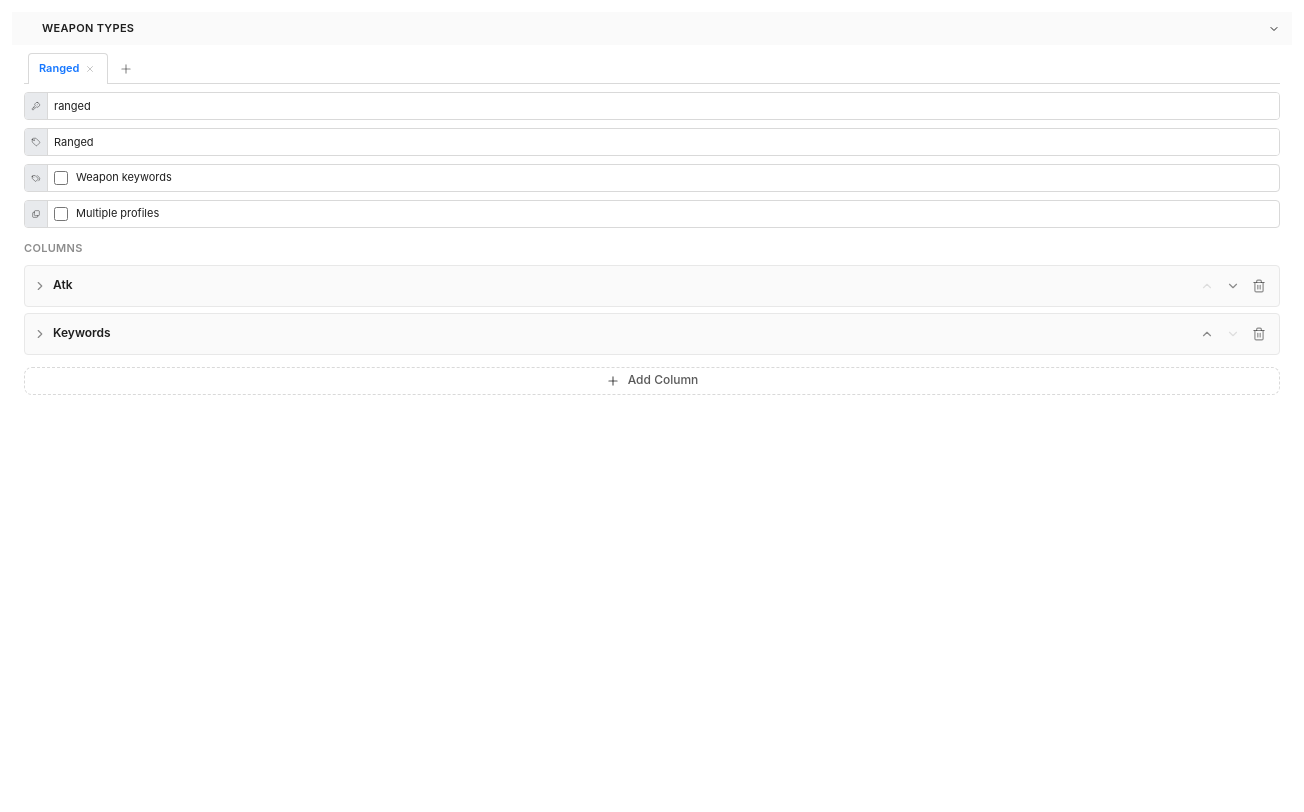
Test case: WeaponsSchemaEditor › shows displayLabel and visual inputs only when display is row
The width and height of the screenshot is (1304, 812).
Click the button "Keywords" at (82, 333), box x1=33 y1=322 x2=1189 y2=345
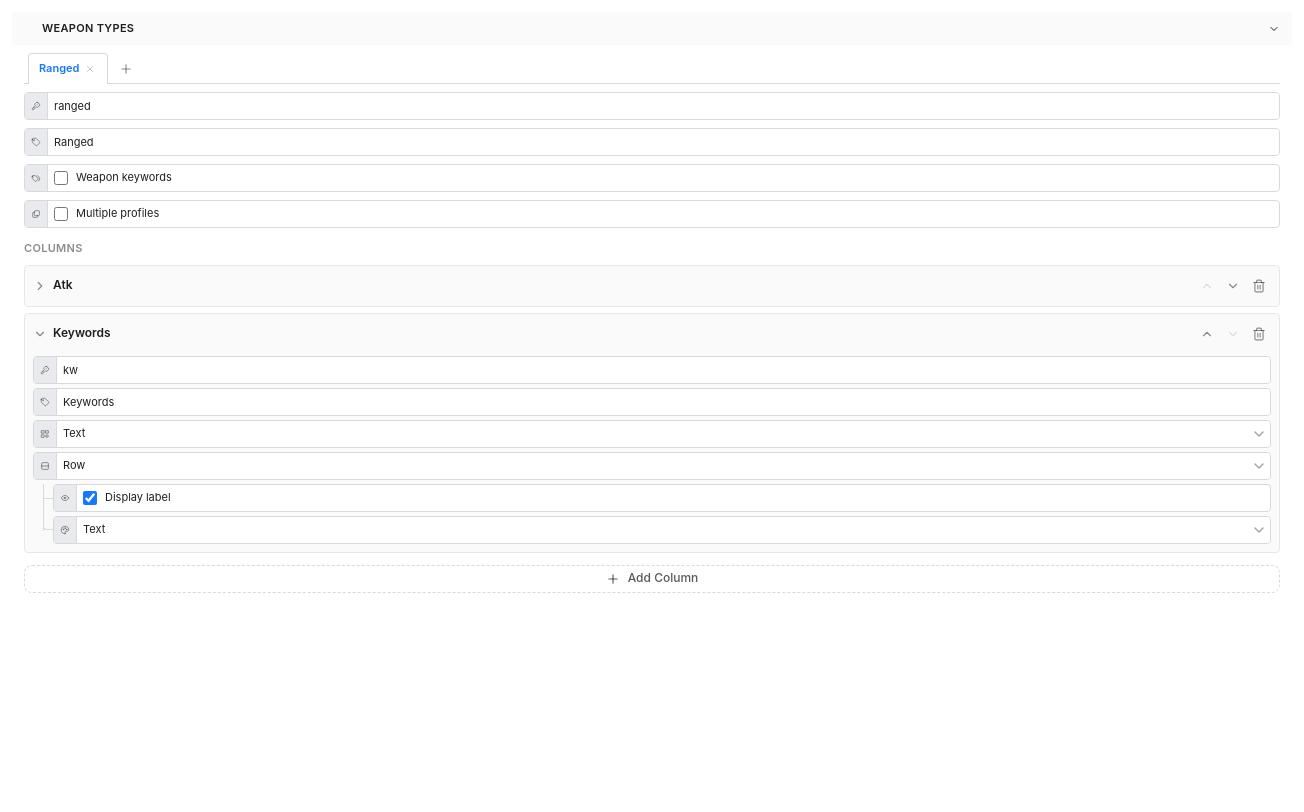
Now the checkbox labelled "Display label" is shown, box x1=83 y1=491 x2=97 y2=505
Now the dropdown named "Visual style" is shown, box x1=77 y1=517 x2=1270 y2=543
